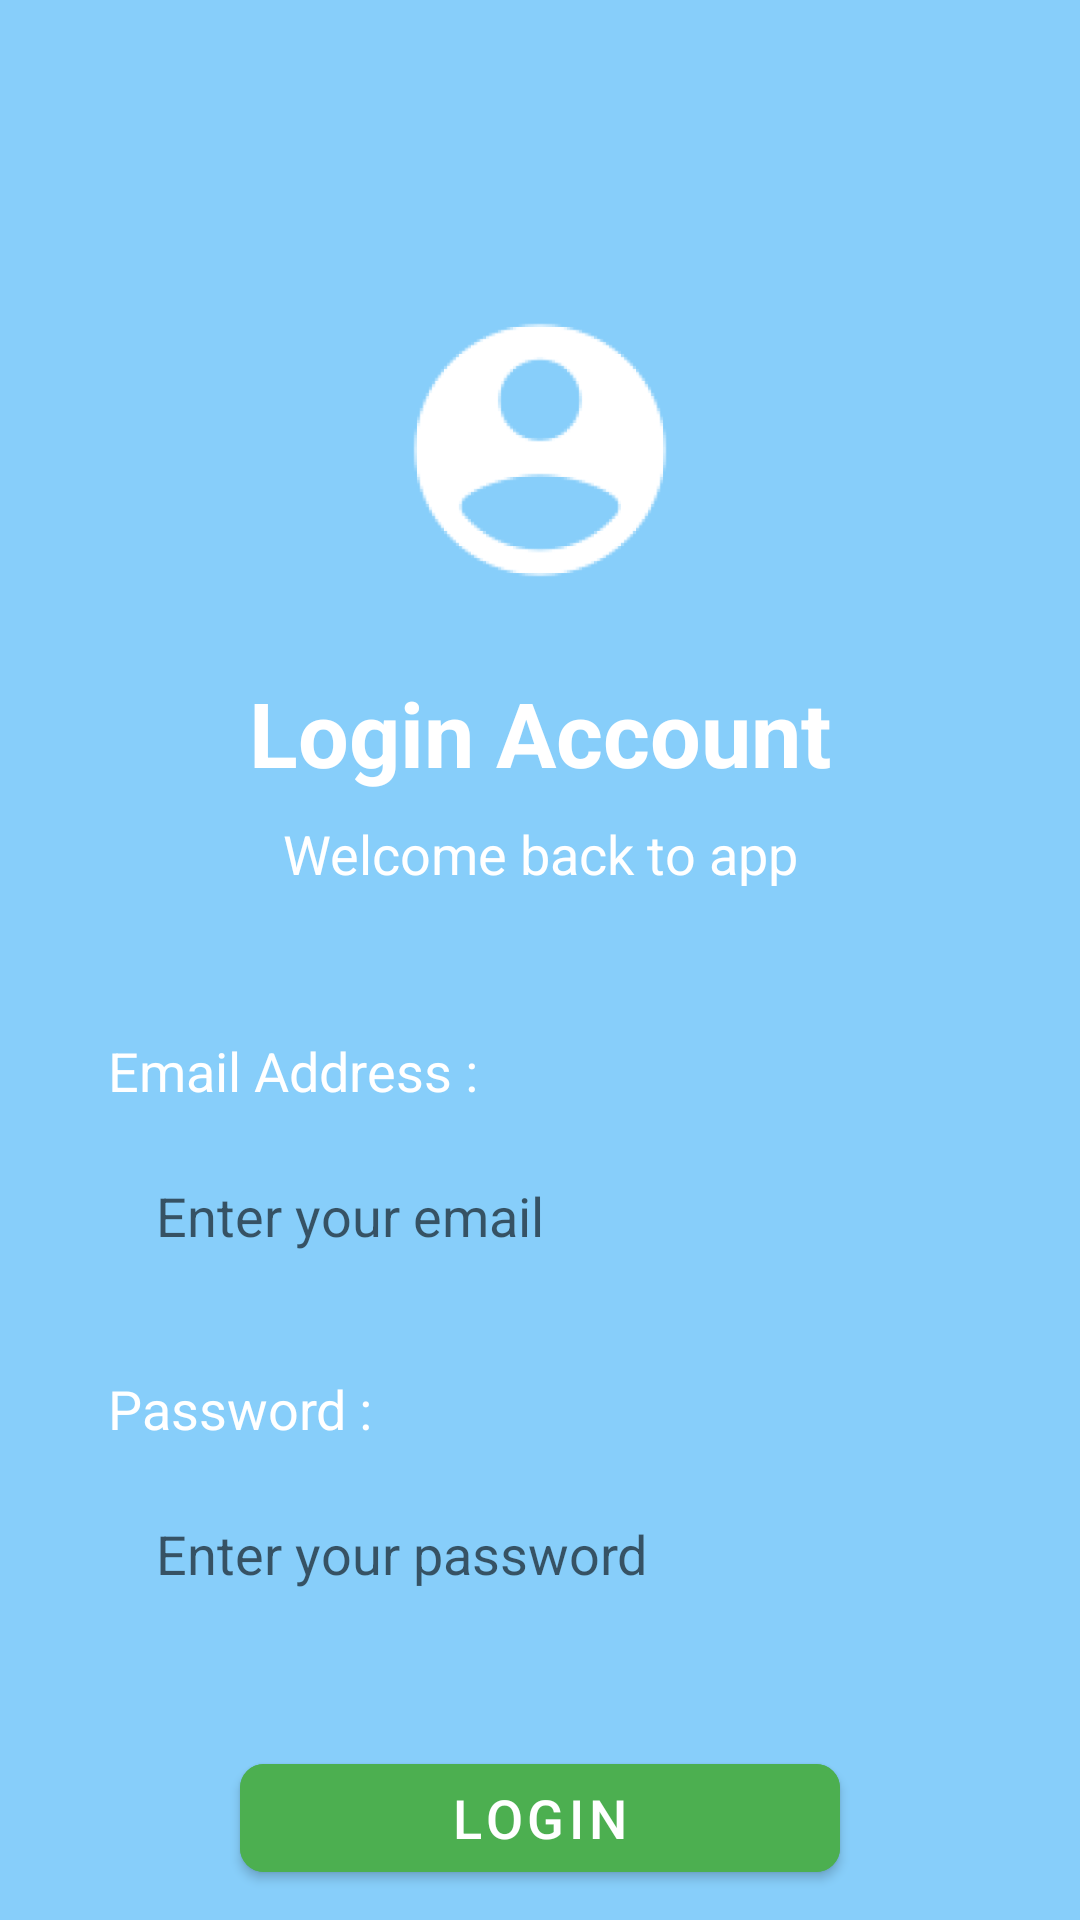

Icon click points for this 1080x1920 phone screenshot, format (x,y):
Guest icon: (540,450)
